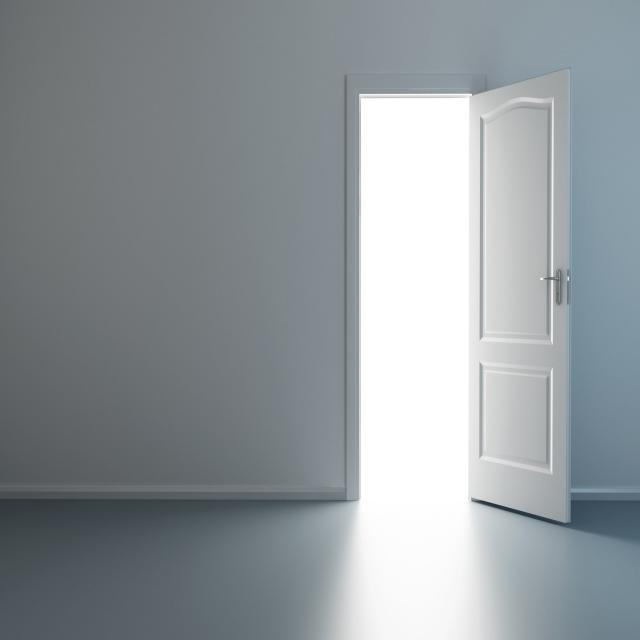open: (348, 74, 570, 524)
